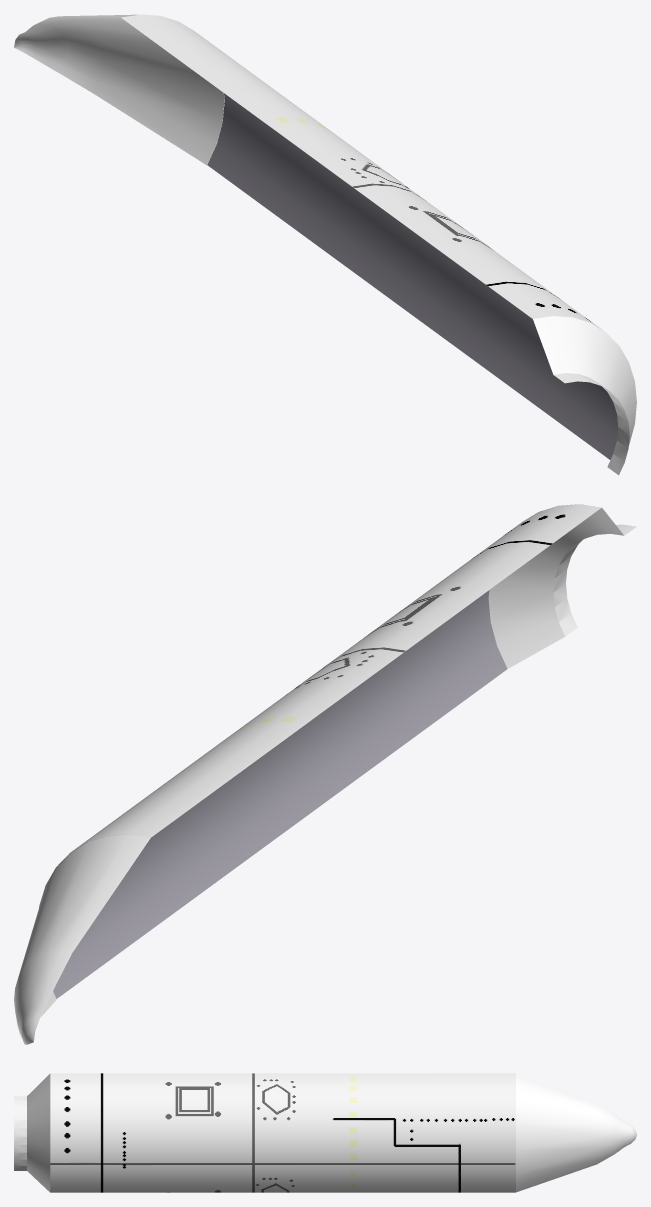
The model's file is fairing613a.obj.
3 renders of one model, top to bottom at view 1: azimuth 30°, elevation 25°; view 2: azimuth 150°, elevation 25°; view 3: azimuth 270°, elevation 25°, orthographic. The views are drawn at different scales.
Parts seen in each view (by area): view 1: group0, group1; view 2: group0, group1; view 3: group1.
Boxes of the visible parts, bbox=[...] form: group0: bbox=[14, 17, 629, 475]; group1: bbox=[51, 14, 636, 463]; group0: bbox=[39, 508, 623, 1016]; group1: bbox=[14, 504, 636, 1044]; group1: bbox=[14, 1073, 636, 1192].
Bounding box in the file's own units: 2.51 × 3.89 × 22.97.
Materials: 2 (2 with a texture image).
